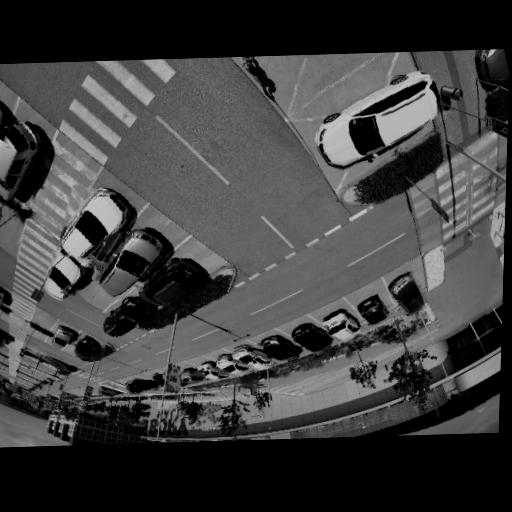busy: (310, 72, 440, 175), (58, 186, 133, 272), (94, 227, 168, 296), (0, 121, 44, 210), (142, 259, 203, 307), (101, 297, 157, 337), (45, 253, 90, 297), (387, 272, 425, 316), (321, 307, 363, 344), (233, 342, 275, 373), (290, 322, 331, 353), (479, 49, 508, 92), (356, 294, 393, 326), (261, 335, 302, 362), (216, 352, 255, 377), (75, 334, 106, 361), (127, 374, 162, 394), (198, 360, 231, 380), (51, 325, 79, 347), (176, 367, 207, 386), (0, 279, 8, 310)
free: (75, 279, 124, 307), (0, 208, 27, 244), (36, 312, 58, 329)
